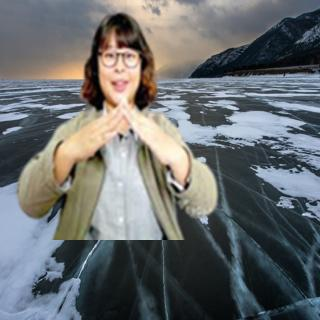HOME: (69, 96, 178, 166)
